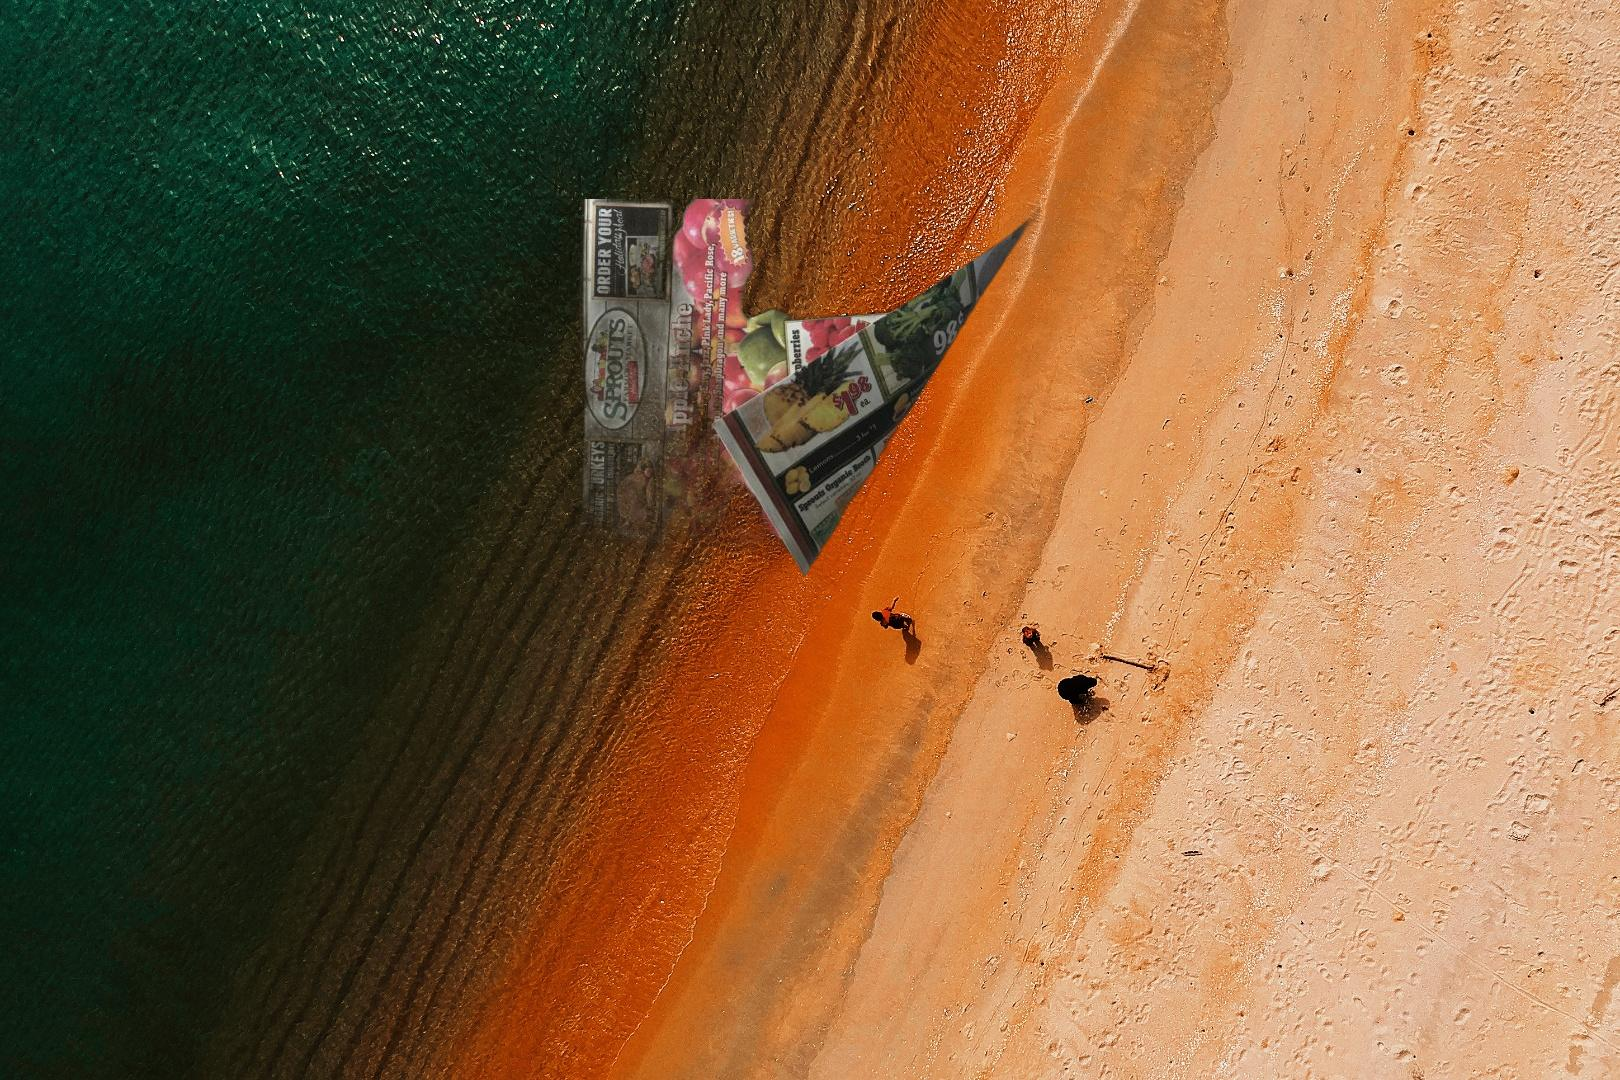paper: (528, 199, 1040, 583)
